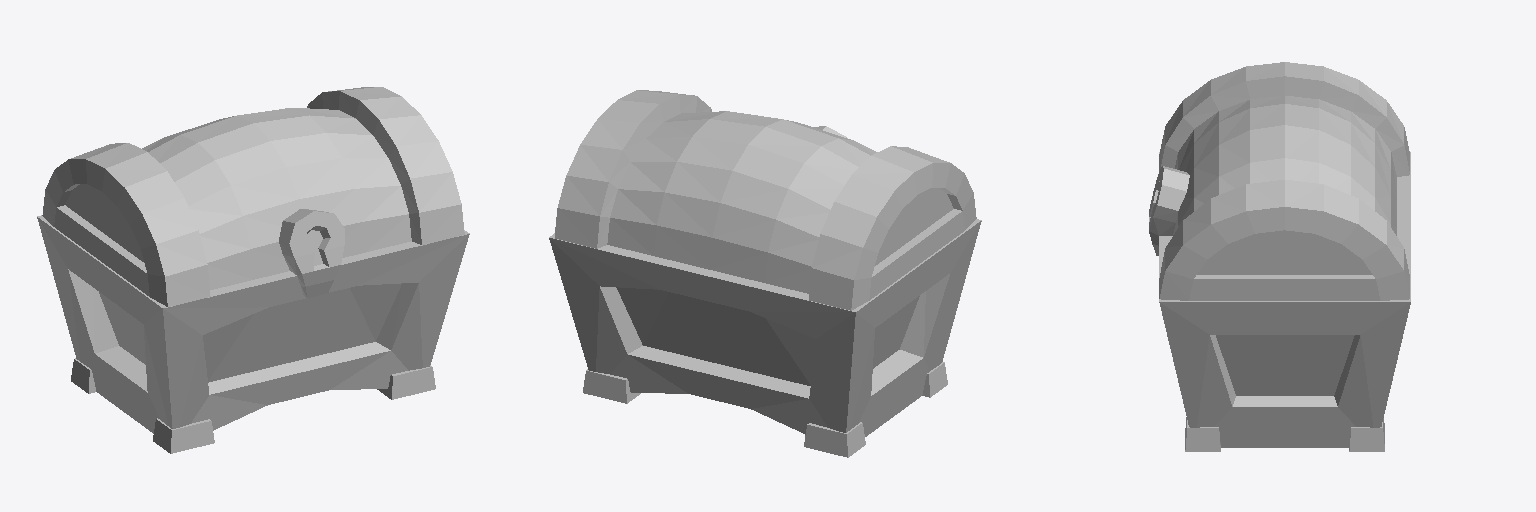
Rendered from Chest.obj.
3 renders of one model, left to right at view 1: azimuth 30°, elevation 25°; view 2: azimuth 150°, elevation 25°; view 3: azimuth 270°, elevation 25°, orthographic.
Visible parts, largest first — view 1: Chest_cover, Chest; view 2: Chest_cover, Chest; view 3: Chest_cover, Chest.
Boxes of the visible parts, x1,y1,x2,y2 form: Chest_cover: [42, 87, 464, 306]; Chest: [37, 215, 469, 453]; Chest_cover: [555, 90, 976, 310]; Chest: [549, 219, 981, 457]; Chest_cover: [1149, 62, 1409, 300]; Chest: [1159, 152, 1410, 451].
Size of the model in its own units: 1.05 by 0.8564 by 0.7775.